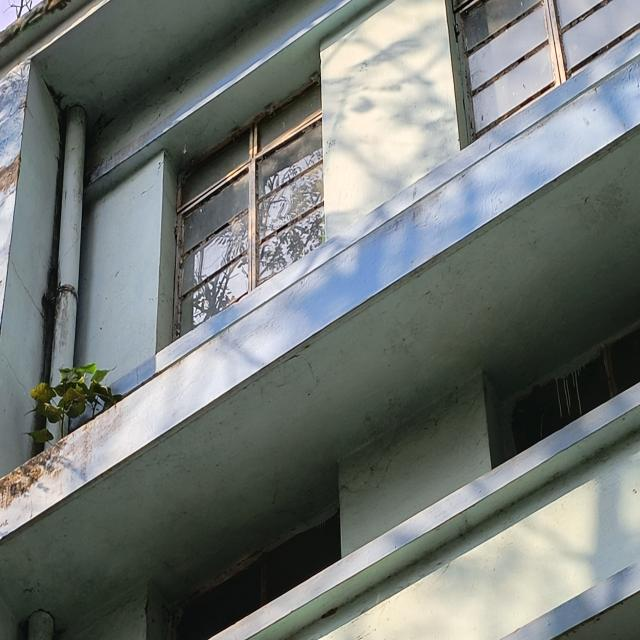Moss growth due to damping: (14, 341, 135, 473)
Scaling: (0, 434, 82, 510), (0, 151, 27, 207)
